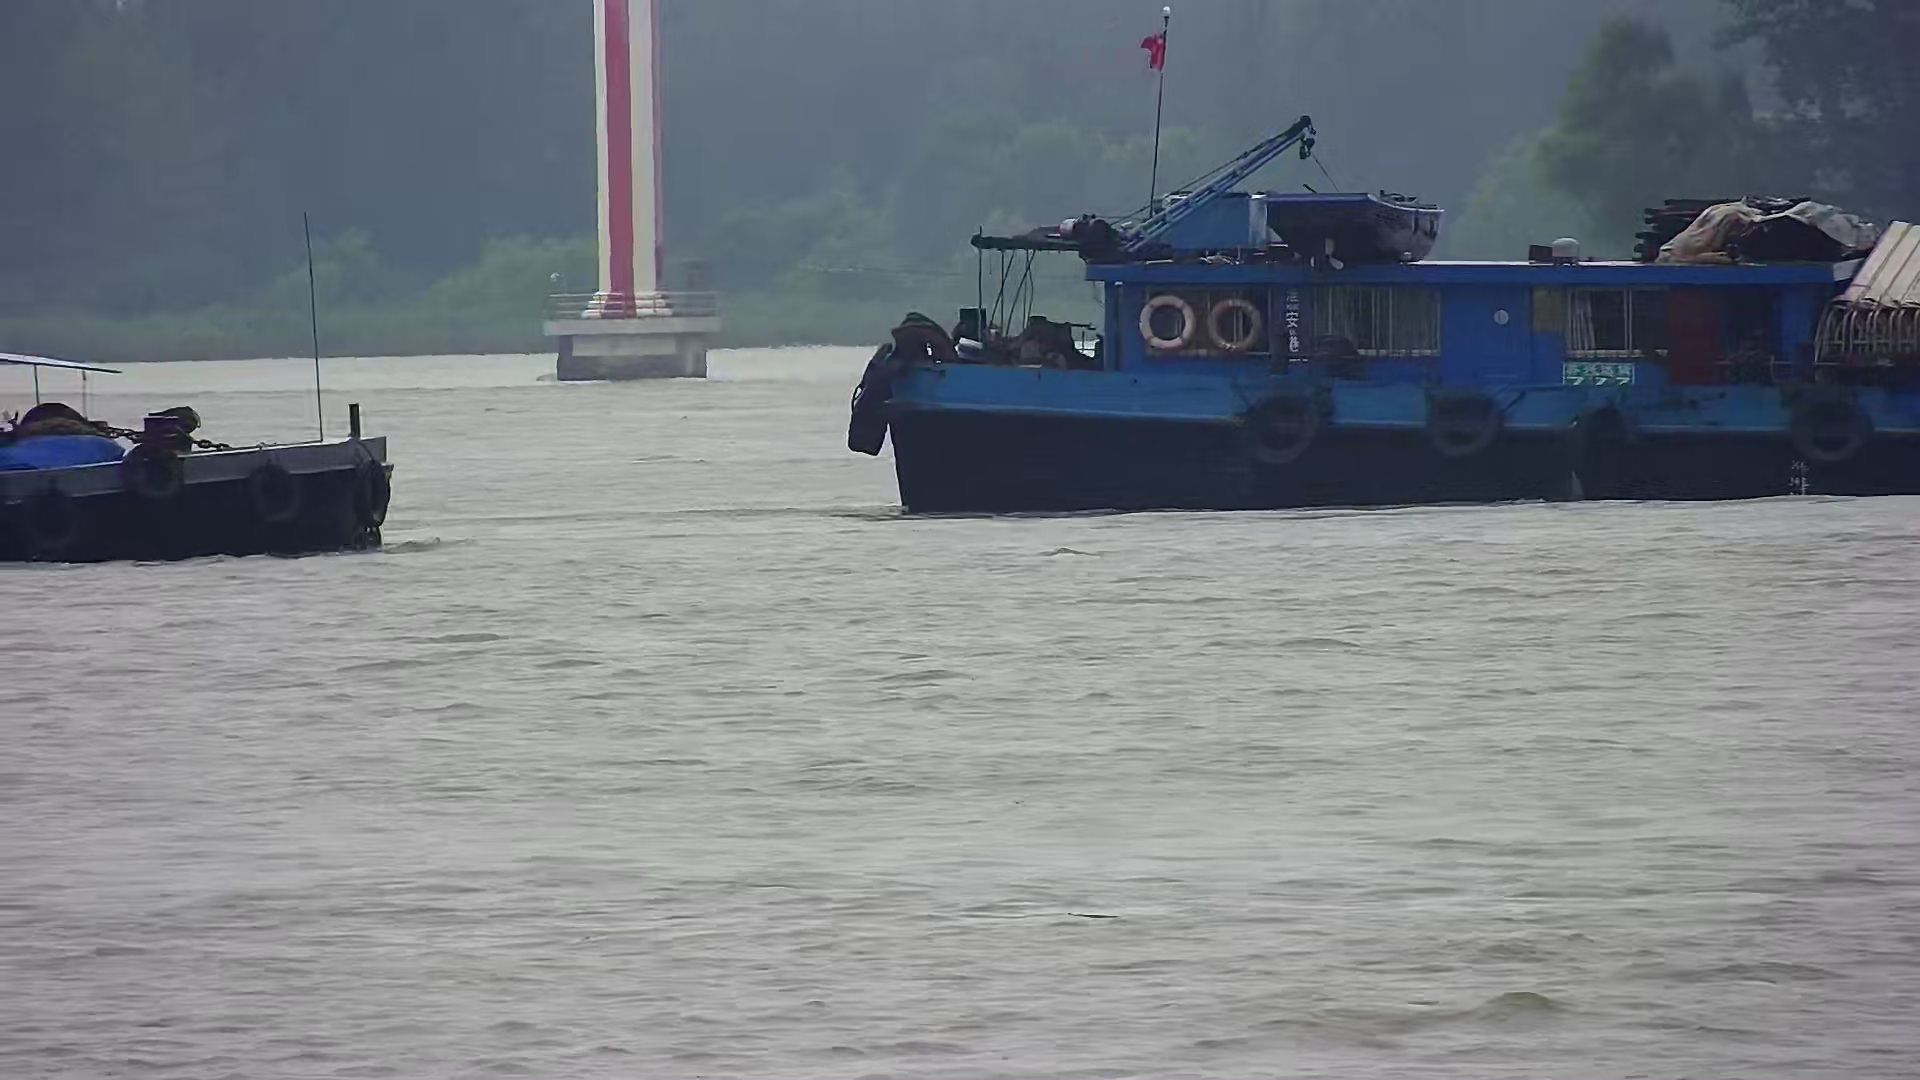platform: (543, 3, 723, 378)
ship: (847, 112, 1920, 517), (1, 342, 402, 560)
